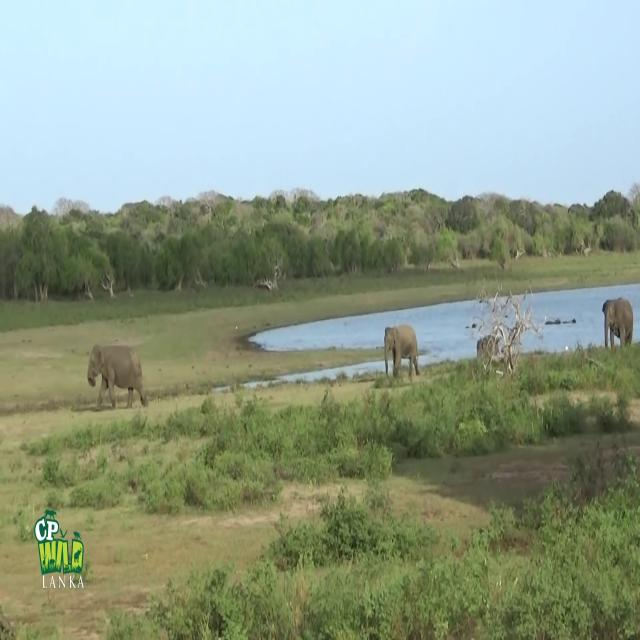Elephant: (87, 344, 148, 409), (384, 324, 419, 378), (602, 296, 633, 350)
